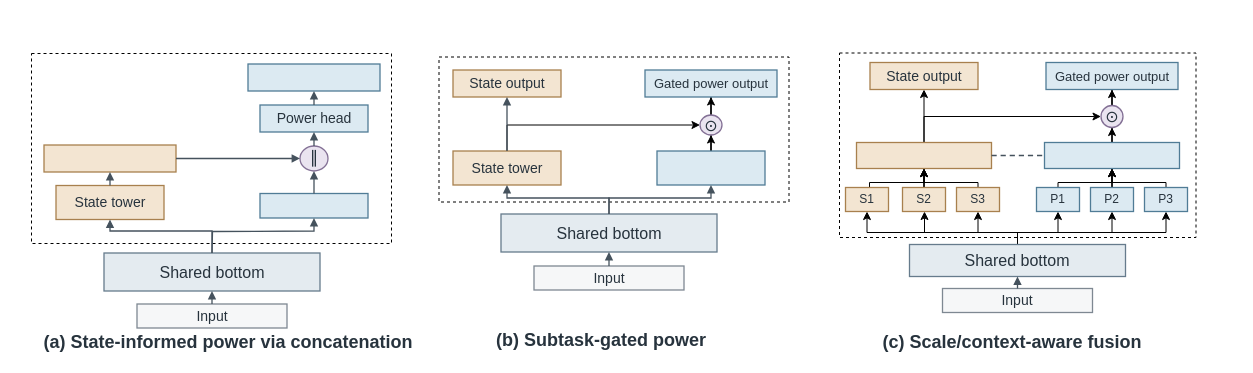
This 1253x373 diagram has some shape labels left out. The centre of each missing label's shape, as x and y in pixels:
Power estimate ŷ: point (313, 77)
Power features z: point (313, 205)
Power fusion: point (1111, 155)
Power tower: point (710, 167)
State fusion: point (923, 155)
State probability p: point (109, 158)
